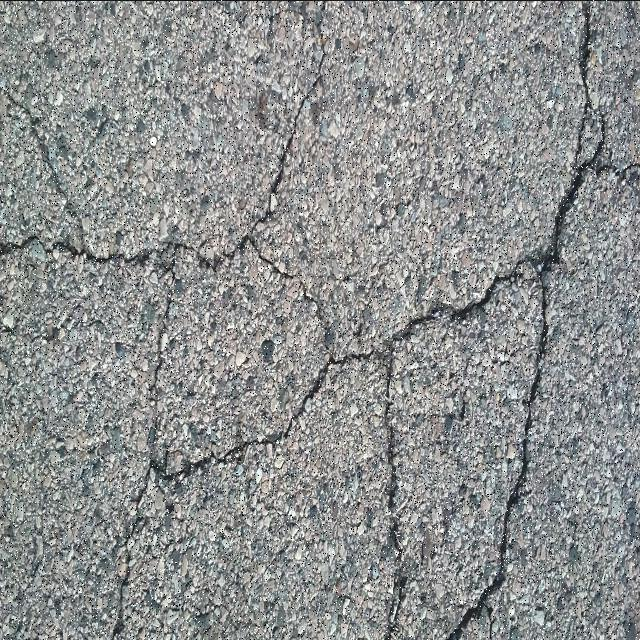Crack: (107, 0, 640, 640), (0, 0, 332, 457)
